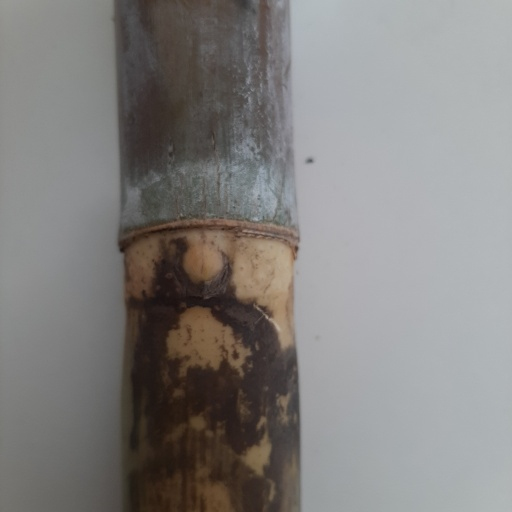Bud: (182, 239, 223, 285)
